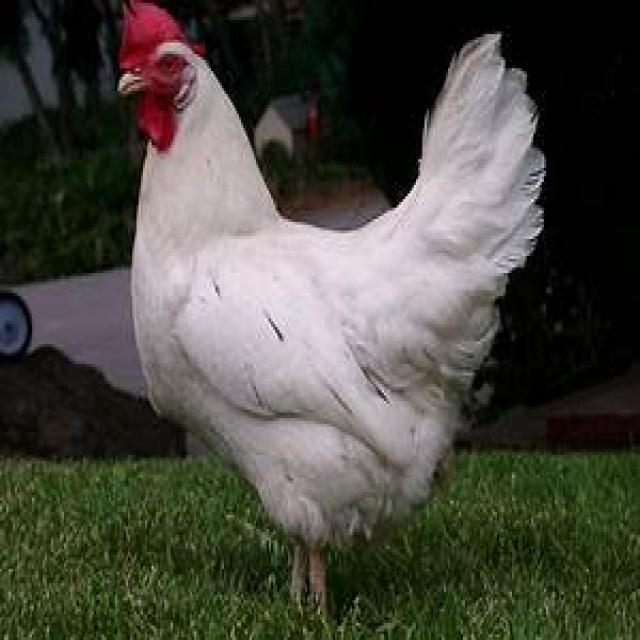hen: (119, 5, 545, 604)
